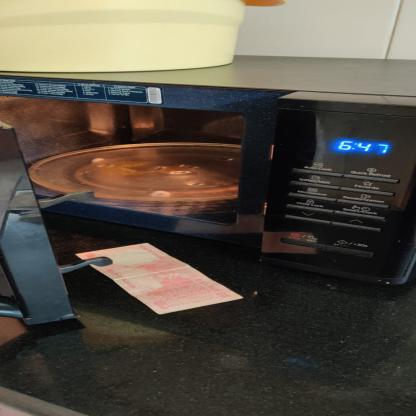Old20Back: (76, 242, 243, 314)
